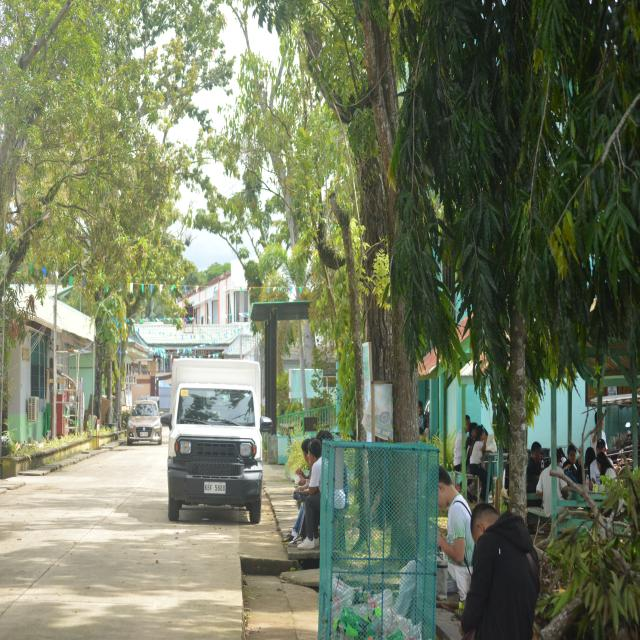person: (460, 504, 539, 639), (438, 466, 474, 601), (298, 439, 321, 549), (469, 425, 487, 502), (536, 465, 552, 517), (563, 444, 582, 484), (454, 430, 462, 471)
